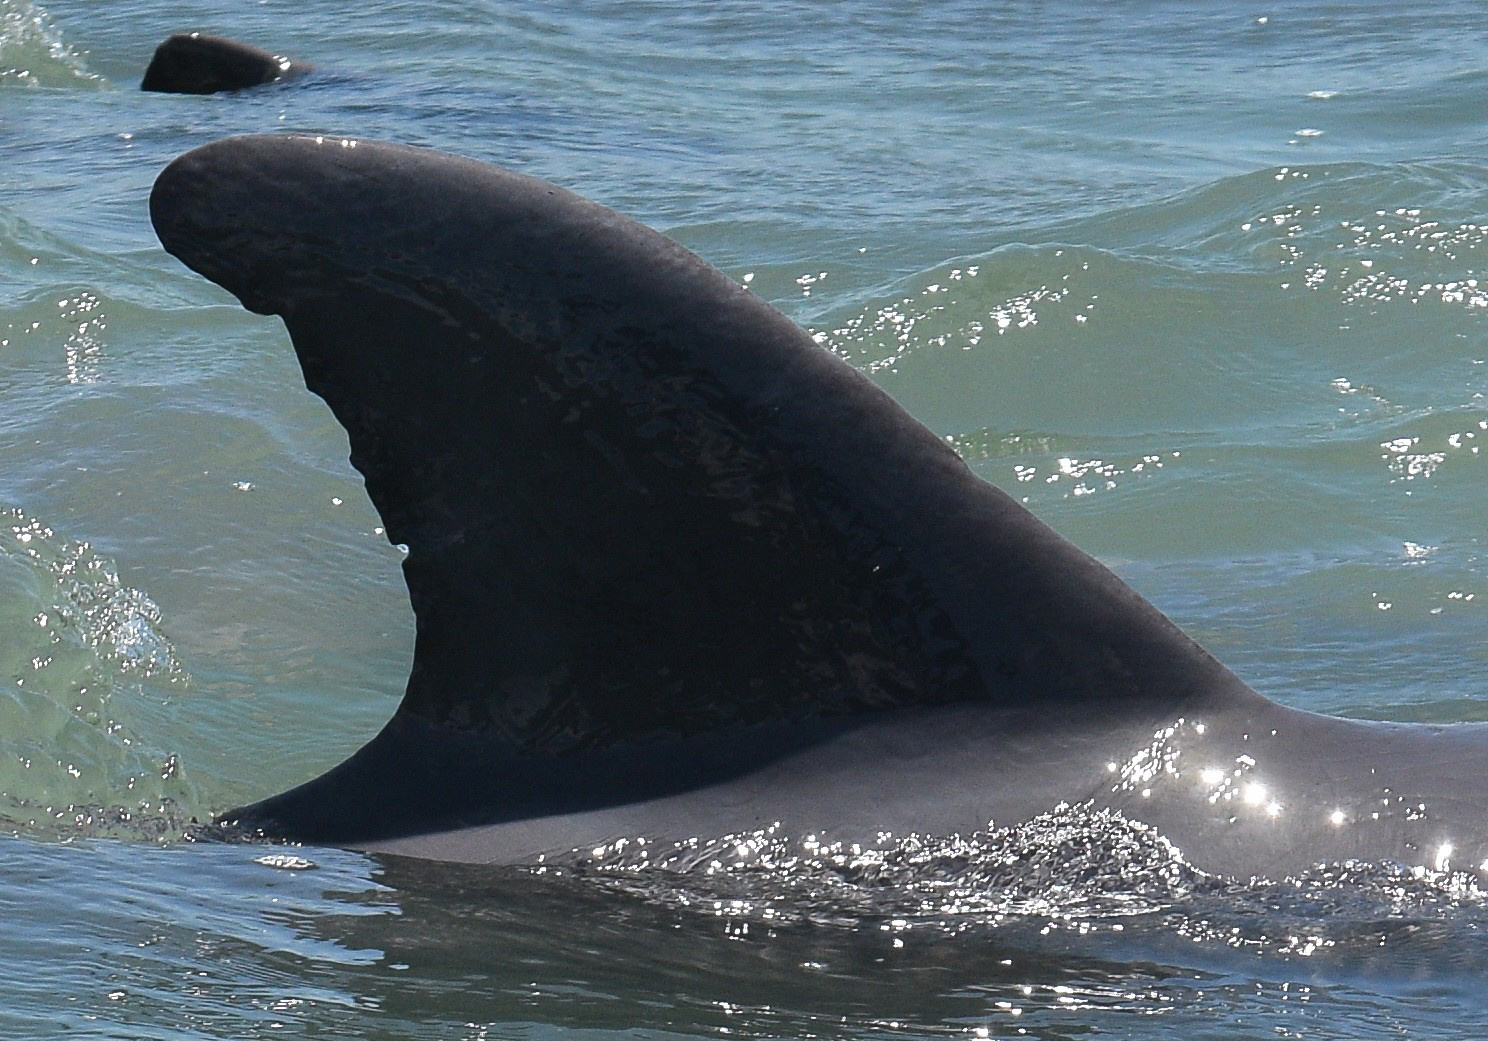fin: (146, 129, 1304, 853)
